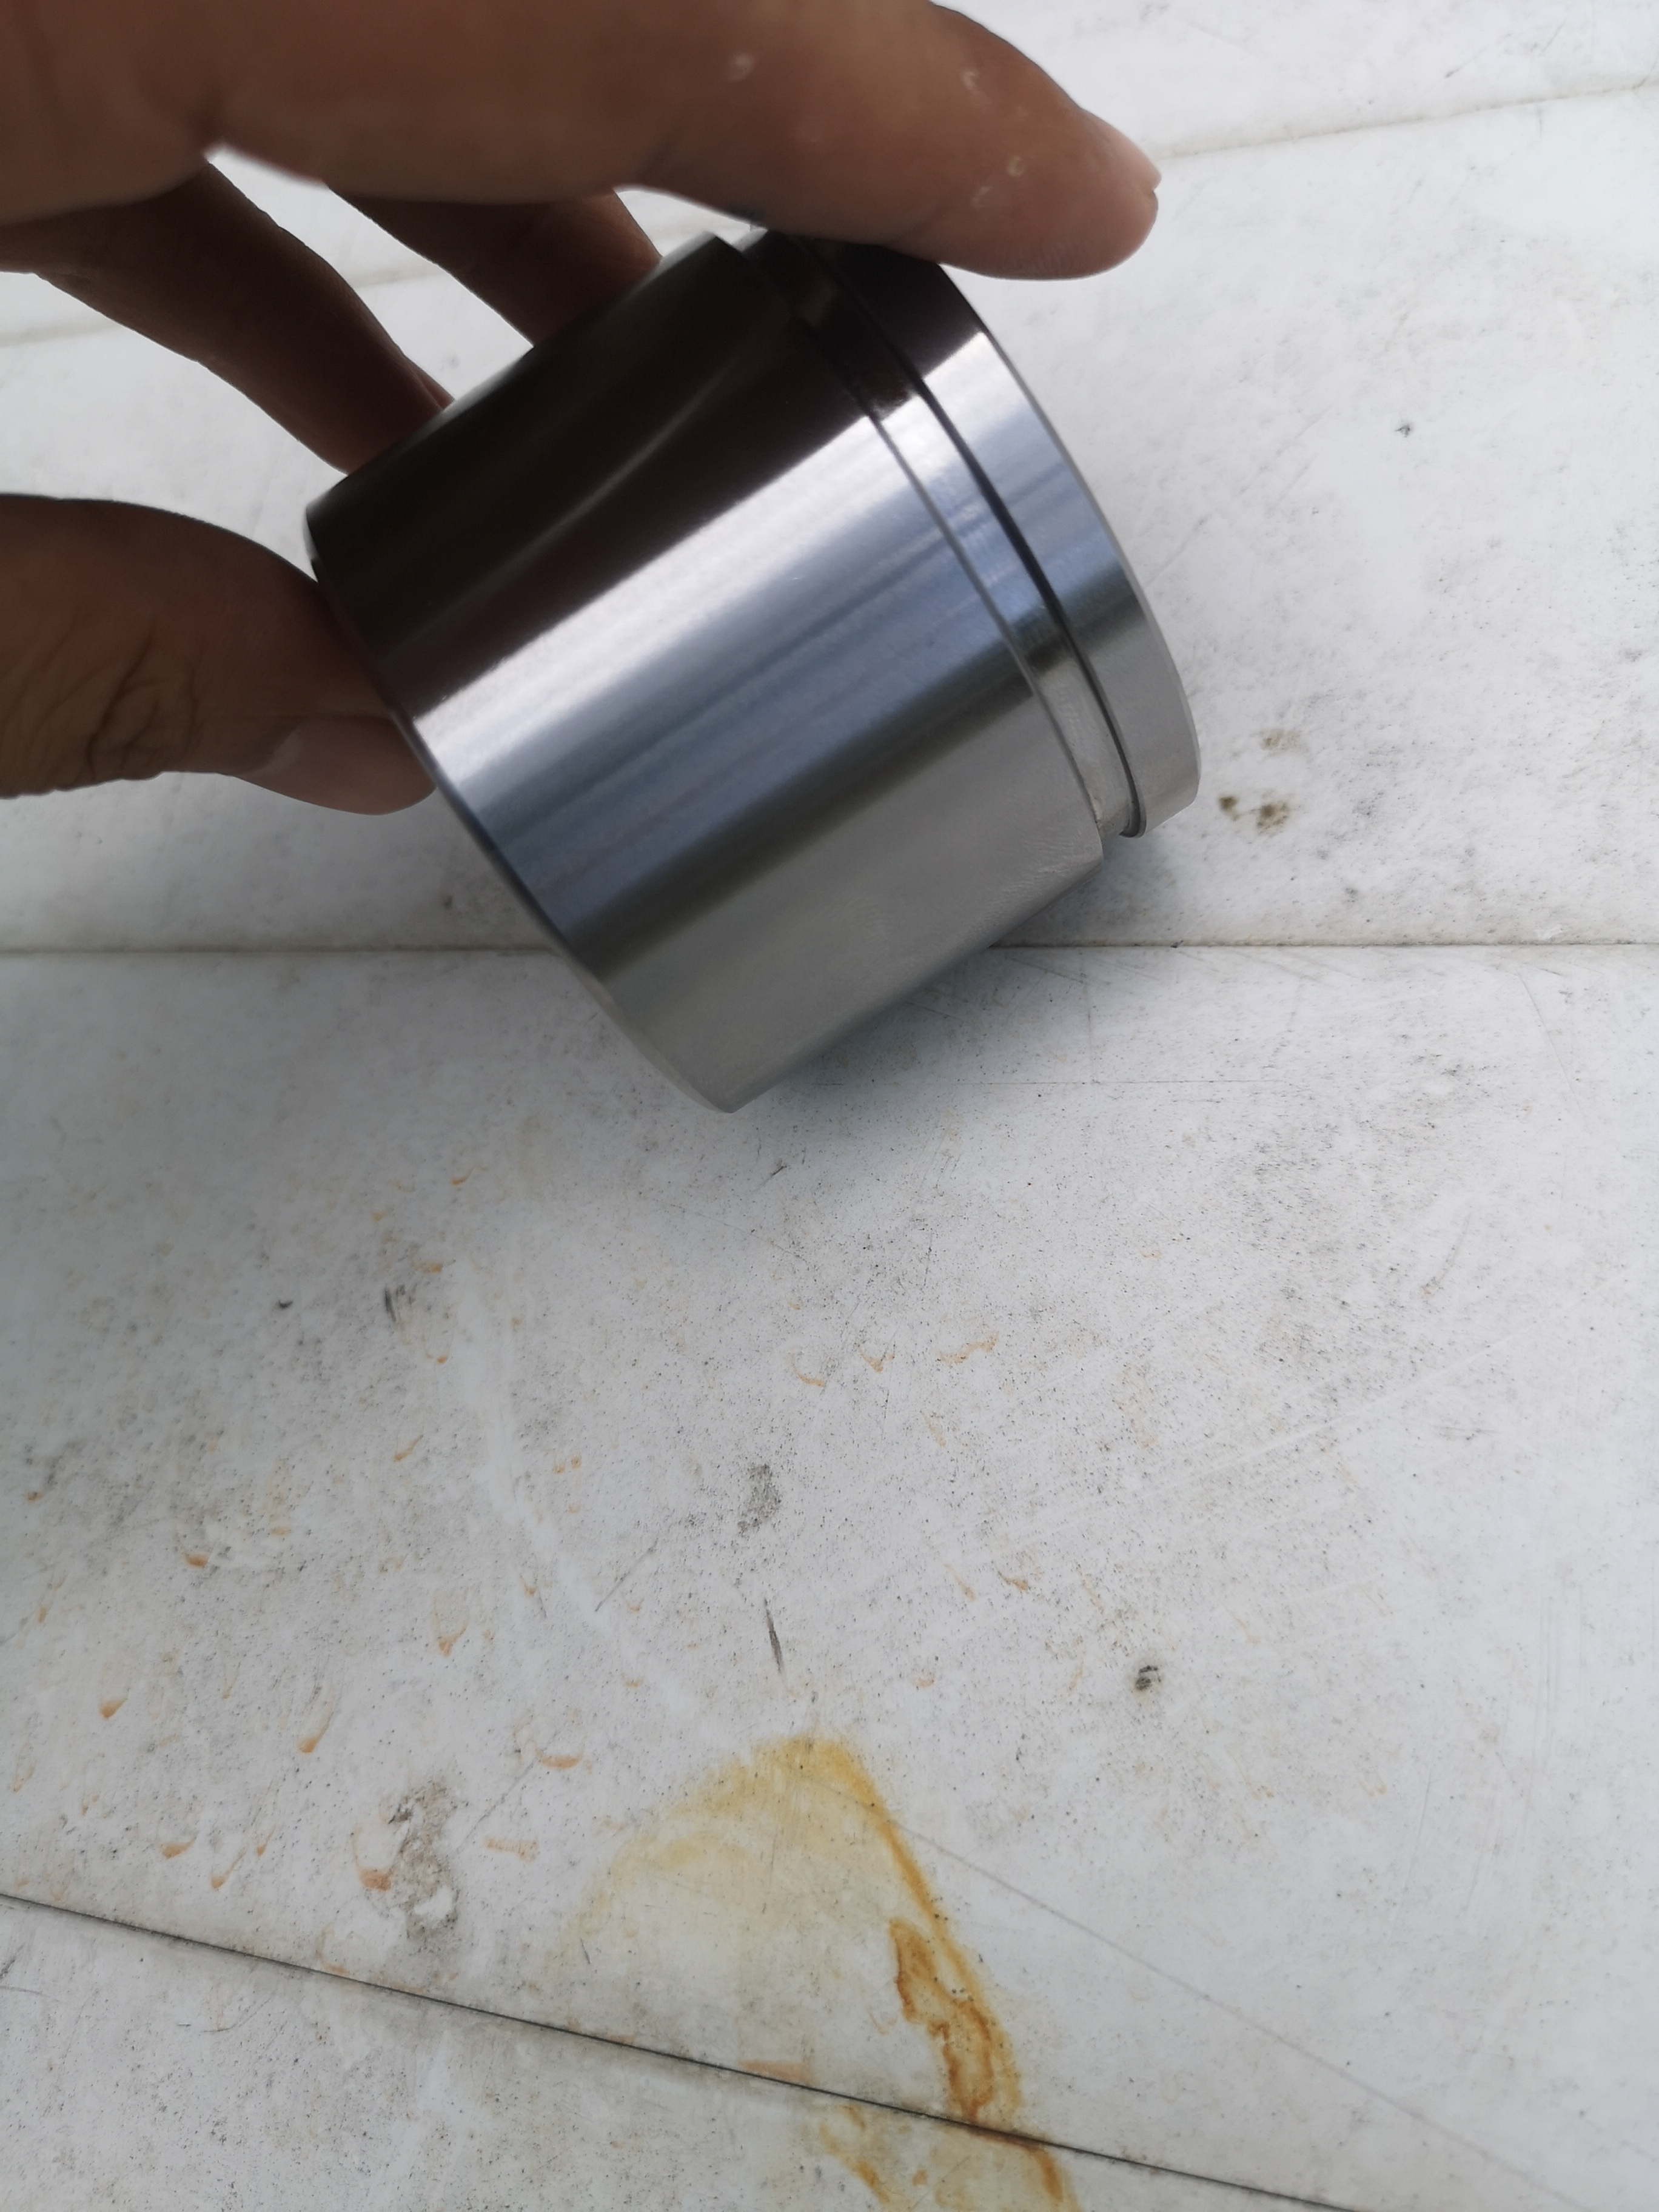ลูกสูบดิสเบรค: (244, 218, 1216, 1191)
